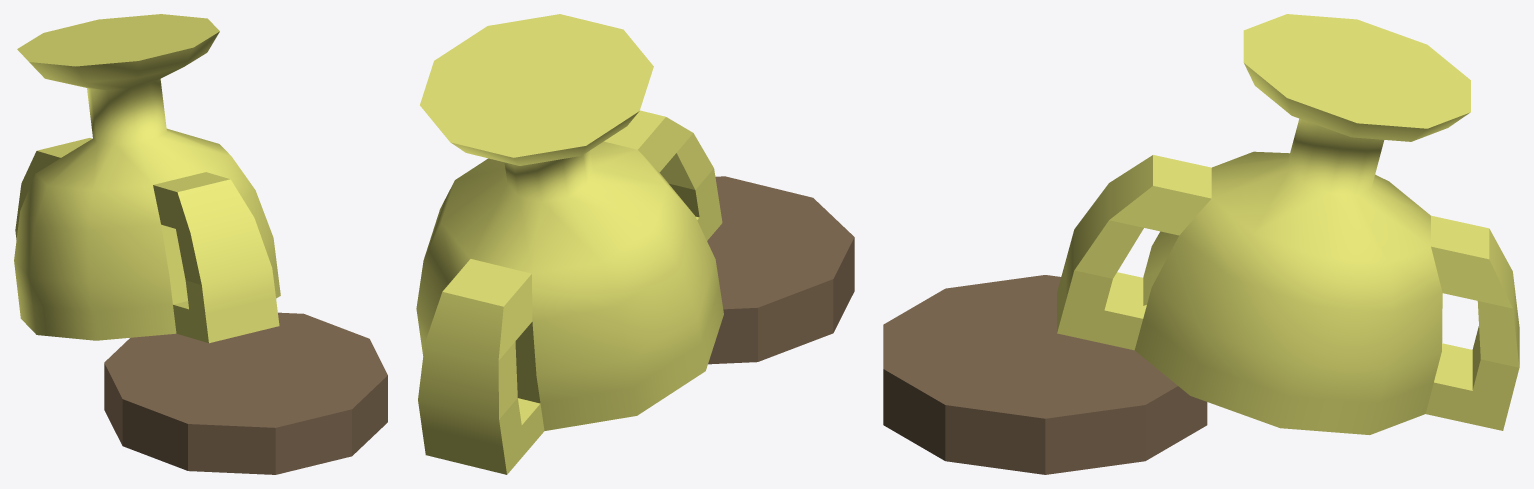
Rendered from trophyshattered.fbx.
The picture shows the model from 3 angles, left to right: view 1: azimuth 30°, elevation 25°; view 2: azimuth 150°, elevation 25°; view 3: azimuth 270°, elevation 25°; orthographic projection. The views are drawn at different scales.
Visible parts, largest first — view 1: pCylinder6; view 2: pCylinder6; view 3: pCylinder6.
Part boxes in pixels (x1,y1,x2,y2): pCylinder6: [14, 14, 387, 474]; pCylinder6: [416, 14, 854, 474]; pCylinder6: [883, 14, 1519, 474].
Bounding box in the file's own units: 2 × 2.36 × 3.74.
